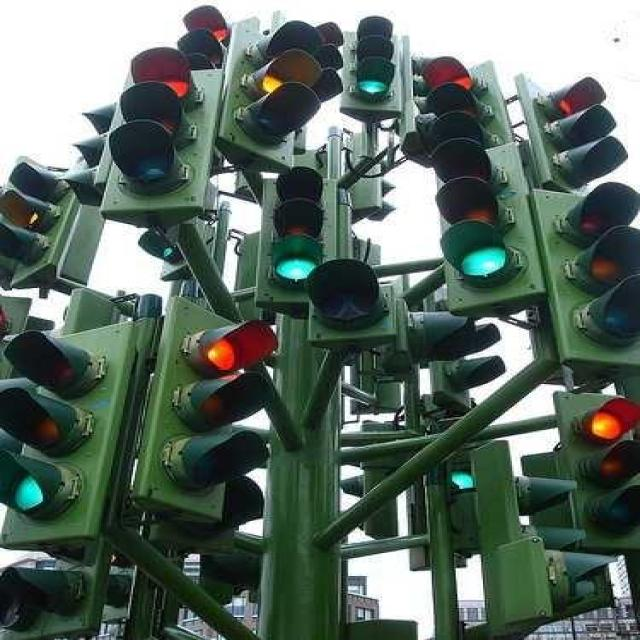Traffic Light -Green-: (0, 330, 106, 532), (418, 145, 530, 312), (267, 170, 334, 296), (352, 13, 396, 106)
Traffic Light -Off-: (538, 187, 640, 358)
Traffic Light -Red-: (168, 297, 276, 507), (522, 76, 632, 180), (580, 388, 640, 558)
Traffic Light -Yellow-: (241, 22, 327, 159), (2, 150, 81, 278)
